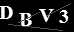3: (57, 9, 69, 24)
B: (17, 12, 32, 27)
D: (1, 4, 13, 20)
V: (37, 8, 54, 23)
